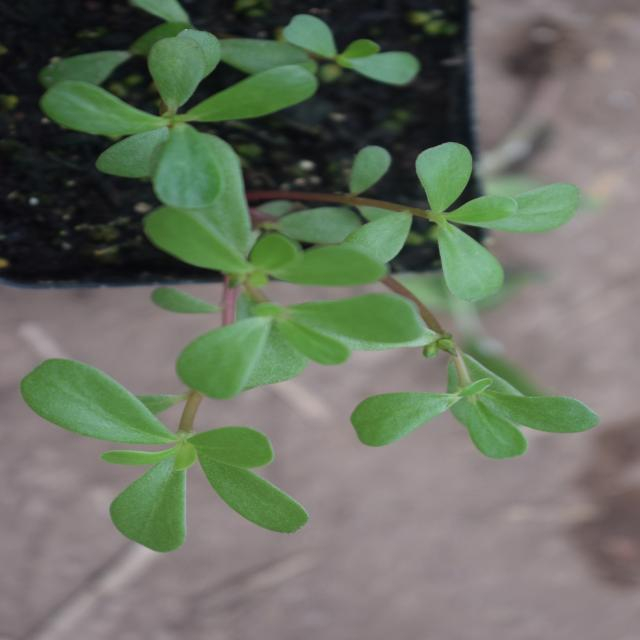purslane: (24, 64, 570, 594)
